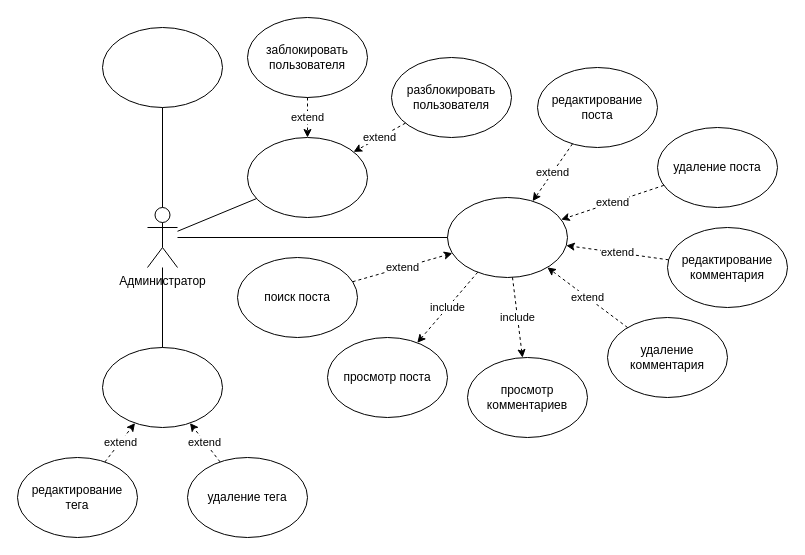
This 805x555 diagram has some shape labels left out. Each missing label, with the centre of its shape:
"взаимодействие с пользователем" goes at (x=307, y=177).
"взаимодействие с постами" goes at (x=507, y=237).
"взаимодействие с тегами" goes at (x=162, y=387).
"выйти из учетной записи" goes at (x=162, y=67).
